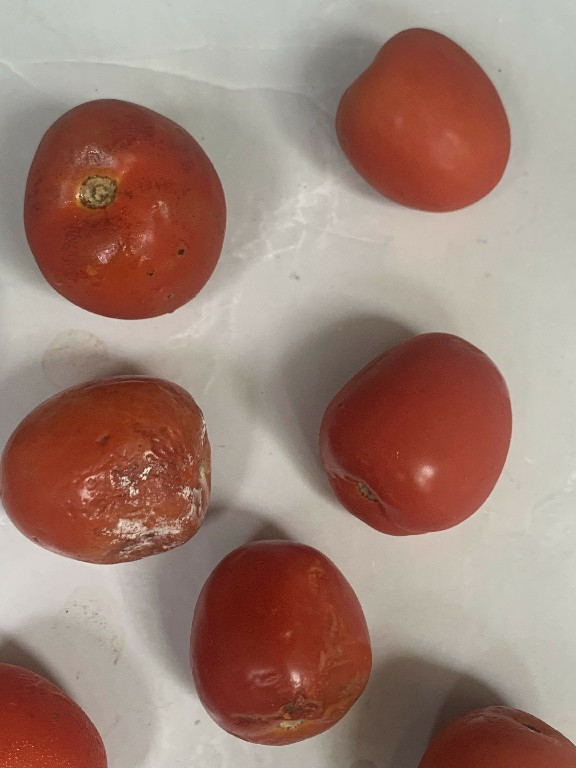NG: (22, 87, 236, 330), (0, 363, 221, 561), (186, 529, 364, 721)
OK: (311, 319, 516, 541), (321, 18, 519, 225)
